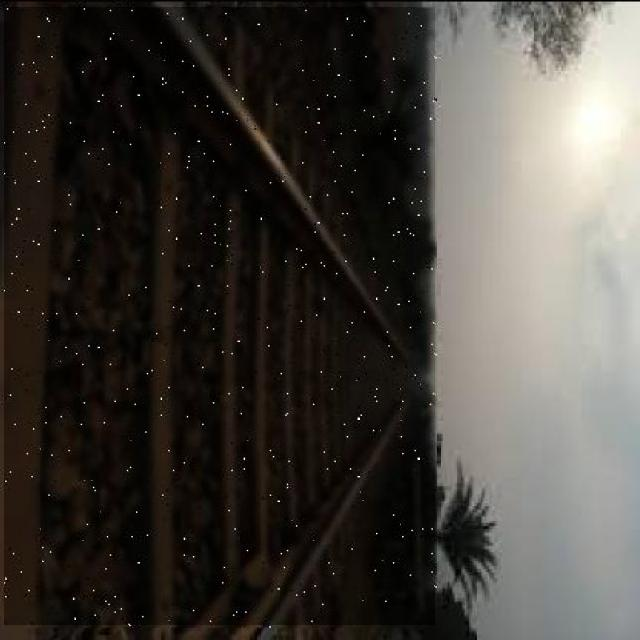rail: (5, 9, 436, 626)
